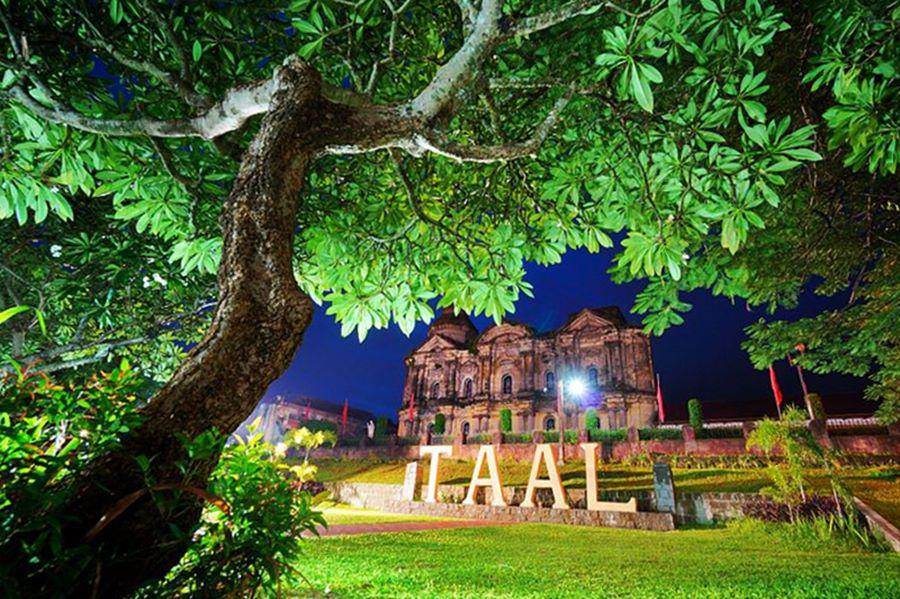taal_basilica_church_taal_batangas: (391, 282, 661, 444)
